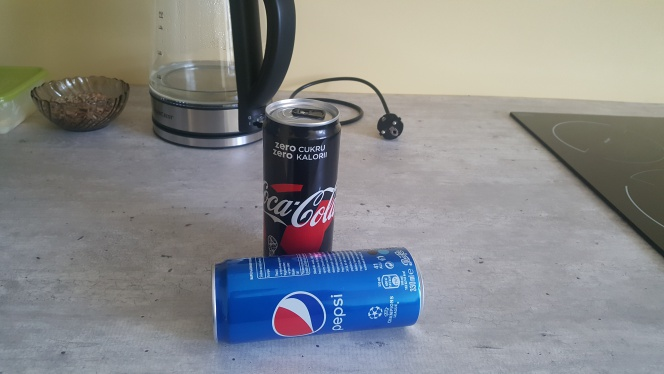colazero: (256, 90, 346, 311)
pepsi: (208, 245, 430, 346)
